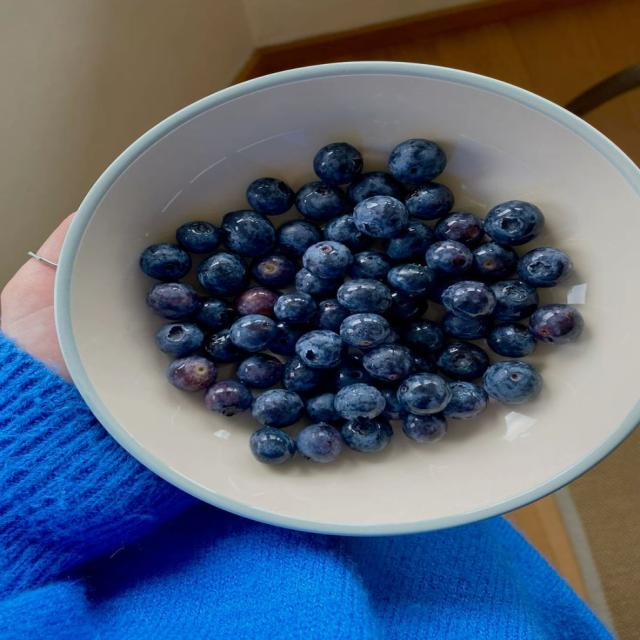blueberry: (389, 139, 446, 185), (485, 201, 544, 245), (483, 361, 542, 403), (222, 210, 275, 256), (354, 196, 408, 238), (529, 304, 584, 344), (518, 247, 572, 287), (398, 374, 451, 414), (198, 253, 247, 296), (438, 341, 489, 380), (314, 143, 362, 184), (442, 281, 495, 318), (386, 220, 435, 260), (140, 243, 191, 281), (295, 182, 346, 220), (252, 389, 303, 427), (492, 280, 538, 321), (147, 283, 199, 319), (337, 279, 392, 313), (363, 345, 413, 382), (303, 241, 353, 278), (335, 384, 386, 420), (341, 417, 393, 452), (167, 356, 217, 392), (297, 424, 343, 463), (296, 330, 343, 368), (247, 178, 294, 215), (349, 172, 405, 203), (205, 380, 253, 416), (324, 215, 372, 251), (472, 243, 517, 281), (230, 314, 275, 352), (406, 183, 453, 219), (443, 381, 487, 419), (340, 314, 389, 348), (487, 323, 536, 357), (250, 427, 295, 464), (277, 221, 322, 257), (435, 212, 484, 245), (426, 241, 472, 276), (236, 354, 283, 388), (283, 357, 326, 394), (156, 323, 203, 356), (387, 264, 435, 296), (252, 254, 297, 288), (203, 329, 245, 363), (176, 221, 220, 253), (295, 268, 343, 297), (404, 320, 444, 354), (274, 292, 316, 324), (403, 413, 447, 443), (194, 298, 235, 330), (236, 287, 279, 317), (442, 312, 489, 339), (336, 354, 373, 388), (269, 322, 305, 356), (349, 251, 391, 280), (314, 299, 349, 332), (387, 292, 427, 320), (427, 276, 466, 304), (306, 393, 340, 424), (380, 388, 406, 419), (414, 356, 436, 373), (383, 325, 400, 345)
